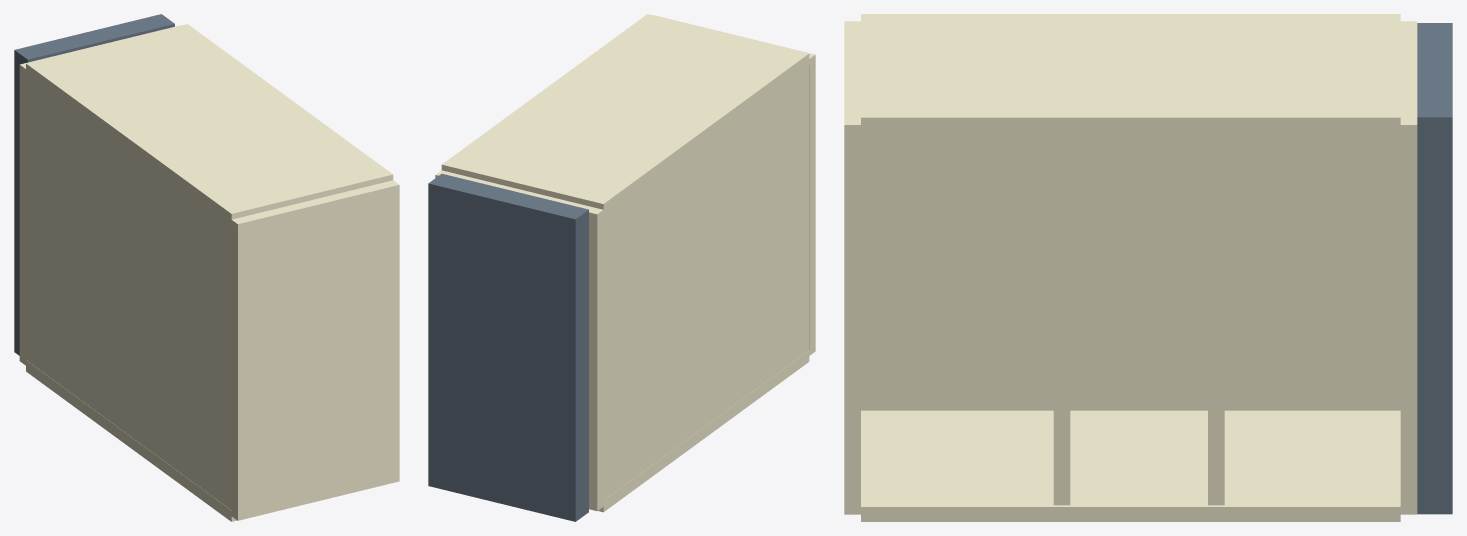
The model's file is nil_link_mesh.dae.
3 renders of one model, left to right at view 1: azimuth 30°, elevation 25°; view 2: azimuth 150°, elevation 25°; view 3: azimuth 270°, elevation 25°, orthographic. The views are drawn at different scales.
Visible parts, largest first — view 1: nil_link (×6); view 2: nil_link (×6); view 3: nil_link (×8).
Boxes of the visible parts, left/top/right/bottom form: nil_link (×6): left=14, top=14, right=399, bottom=521; nil_link (×6): left=428, top=14, right=815, bottom=521; nil_link (×8): left=844, top=14, right=1452, bottom=521.
Bounding box in the file's own units: 0.445 × 0.81 × 1.1.
